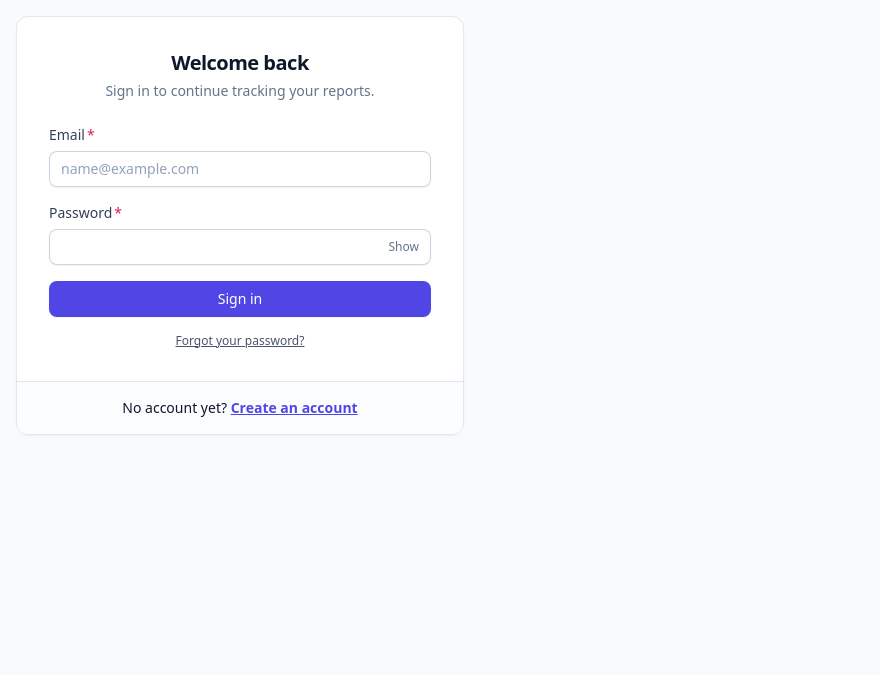
unverified sign-in › sends the user to the verification page when the email is unverified
Type "10234567@live.gctu.edu.gh" into the field labelled "Email*".
click(240, 168); type("10234567@live.gctu.edu.gh")  # box [49, 150, 431, 186]
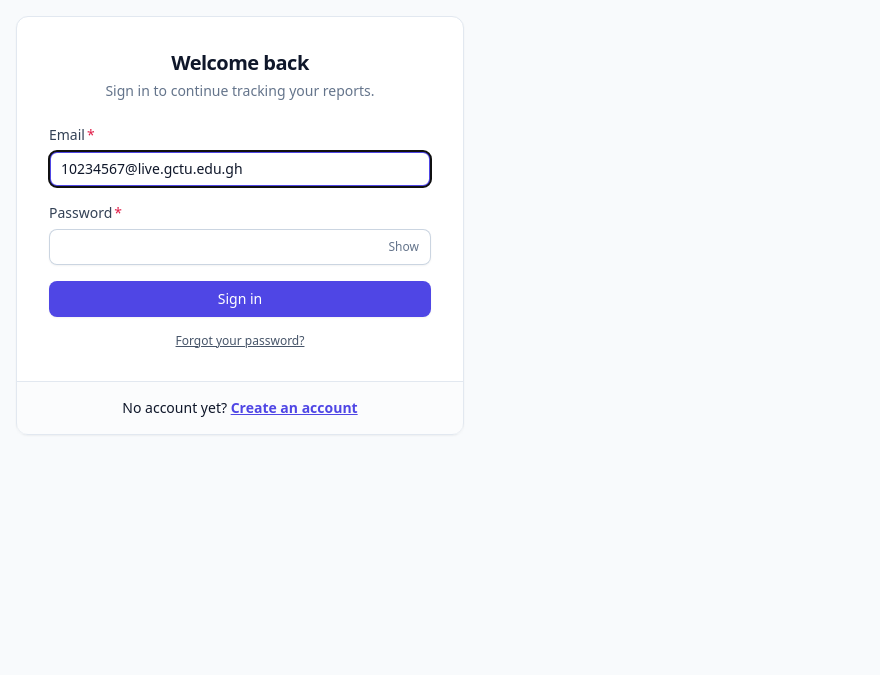
Type "Str0ng!Password1" into the password field labelled "Password*".
click(240, 246); type("Str0ng!Password1")  # box [49, 228, 431, 264]
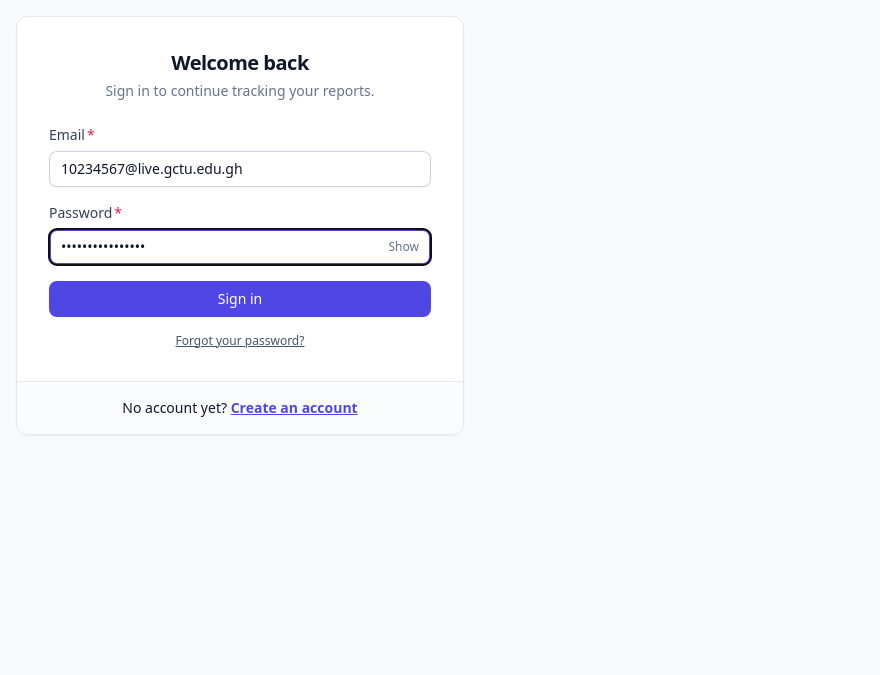
Click the button "Sign in".
click(240, 298)  # box [49, 280, 431, 316]
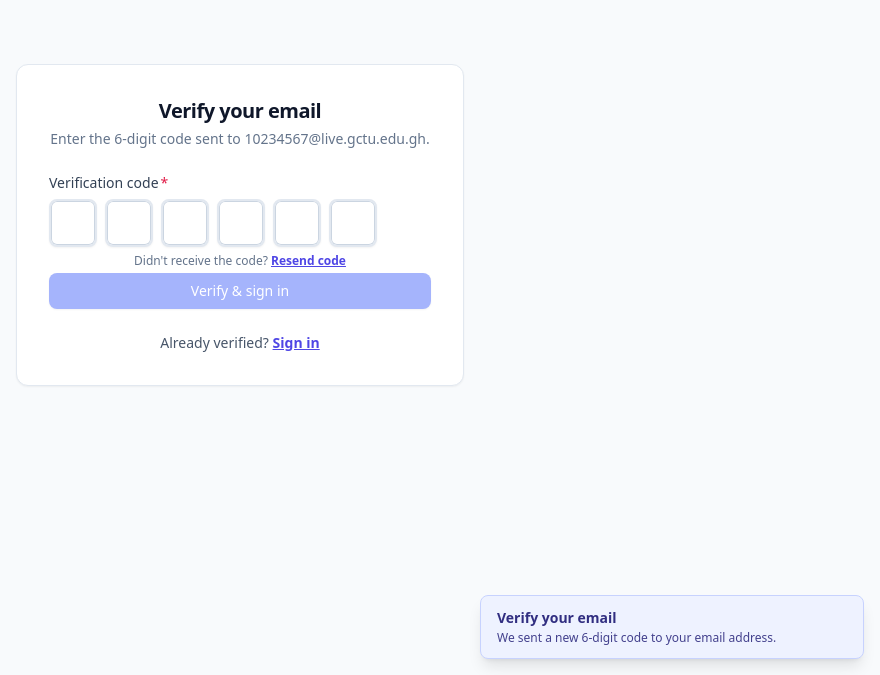
expect the text "Enter the 6-digit code sent to 10234567@live.gctu.edu.gh." is shown: met, box [49, 129, 431, 149]
expect the button "Verify & sign in" is shown: met, box [49, 273, 431, 309]
